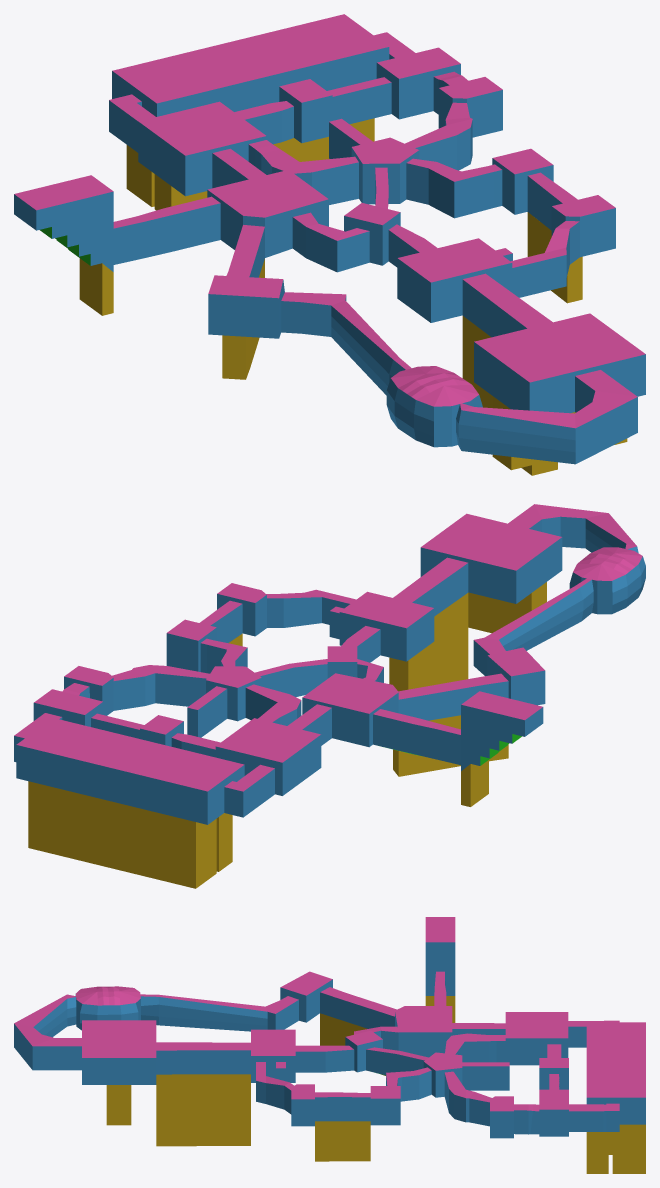
Rendered from best_time.fbx.
The picture shows the model from 3 angles, top to bottom: view 1: azimuth 30°, elevation 25°; view 2: azimuth 150°, elevation 25°; view 3: azimuth 270°, elevation 25°; orthographic projection. The views are drawn at different scales.
Parts seen in each view (by area): view 1: fire_tele_corner_room; view 2: fire_tele_corner_room; view 3: fire_tele_corner_room.
Boxes of the visible parts, x1,y1,x2,y2 form: fire_tele_corner_room: [14, 14, 645, 475]; fire_tele_corner_room: [14, 504, 645, 888]; fire_tele_corner_room: [14, 917, 645, 1173].
Size of the model in its own units: 13305 by 4661 by 21244.
